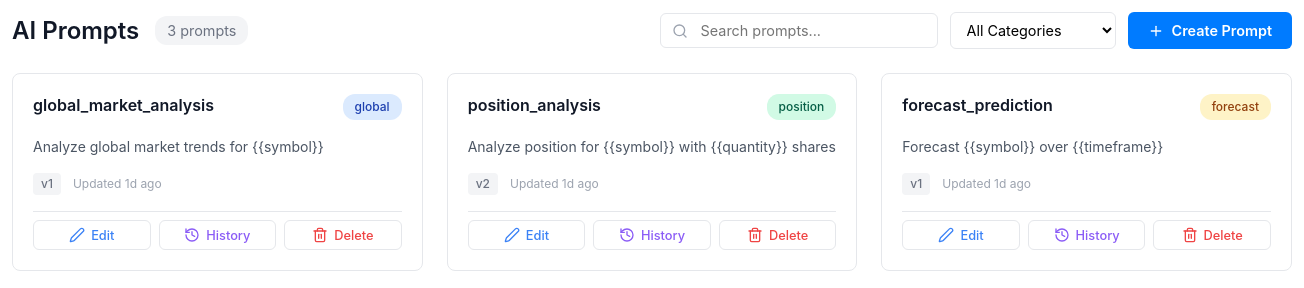
it: PromptsList › Category Filter › should show all prompts when "all" category selected
This screenshot has width=1304, height=288.
First filter to one category
Select "Position Analysis" in the dropdown named "Category": [1032, 30] box [950,12,1116,49]
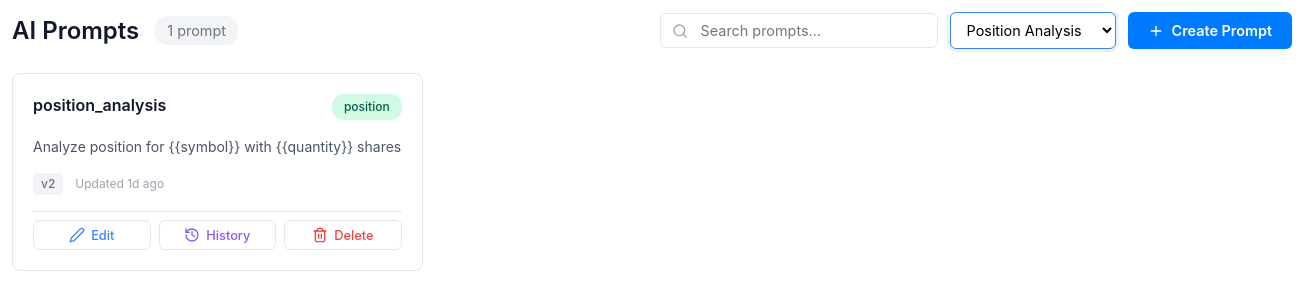
Now the heading "global_market_analysis" is gone
Then select "all"
Select "All Categories" in the dropdown named "Category": [1032, 30] box [950,12,1116,49]
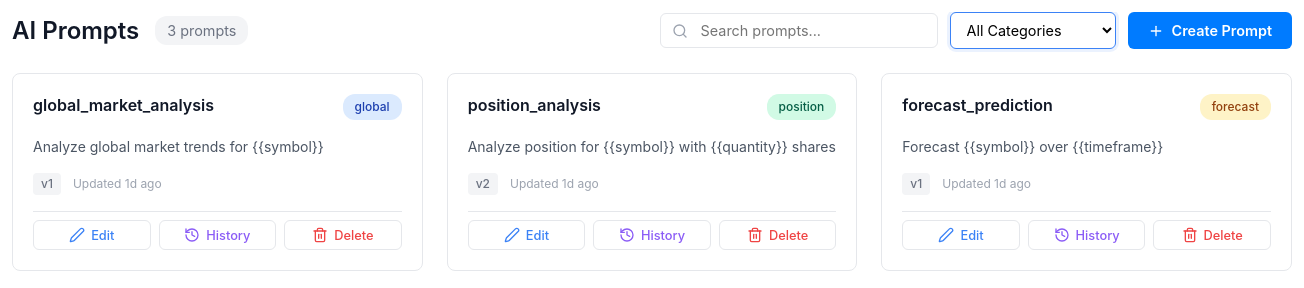
Expected: the heading "position_analysis" is shown, [468,95,601,115]
Now the heading "global_market_analysis" is shown, box [33,95,214,115]
Now the heading "forecast_prediction" is shown, box [902,95,1053,115]
